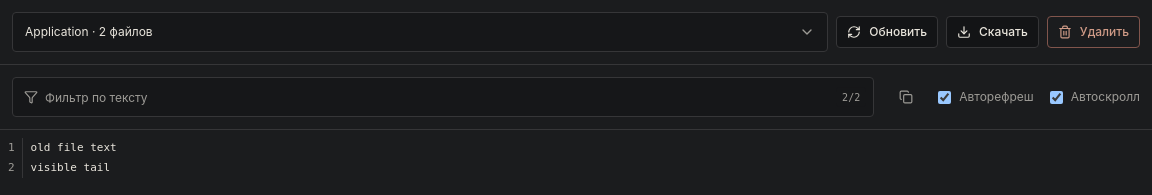
reports a copy error instead of showing success
Expected: the text "visible tail" is shown, 31,158 -> 110,178
Click the button named "Копировать последний файл лога".
click(906, 97)  # box 890,81 -> 922,113
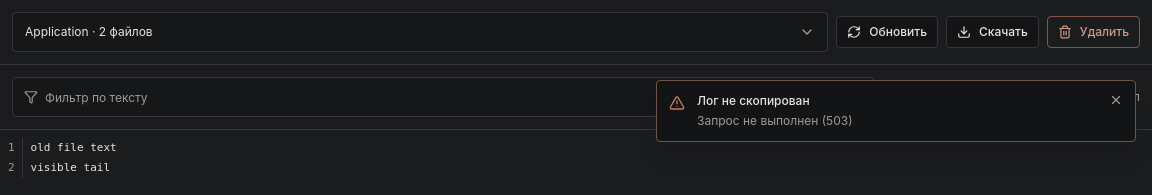
Expected: the message "Лог не скопирован Запрос не выполнен (503)" is shown, 656,80 -> 1136,142
